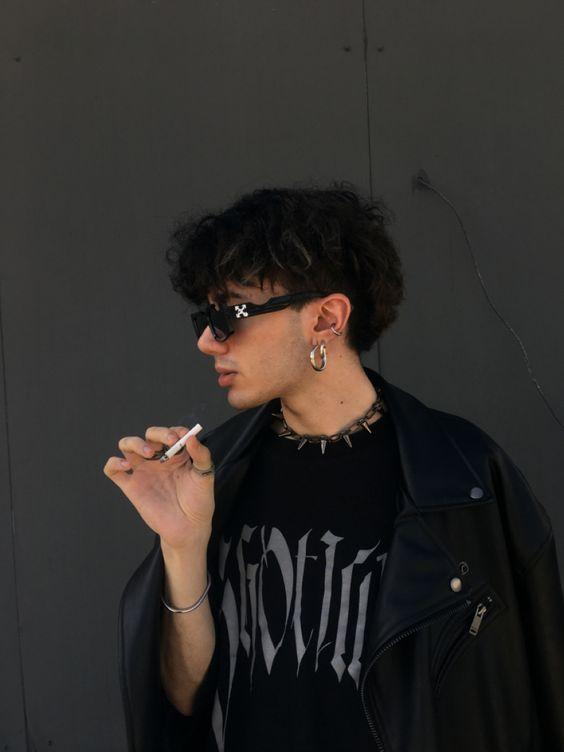cigarette: (160, 423, 203, 464)
